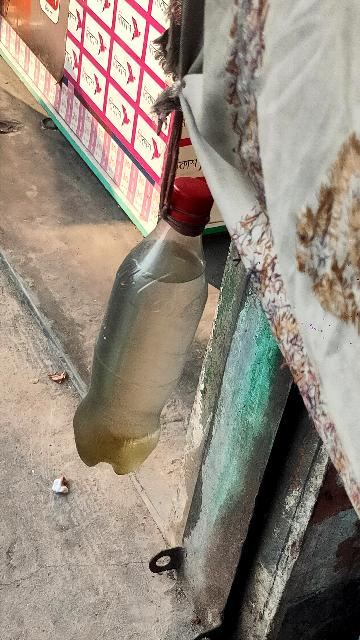bottle: (79, 184, 215, 499)
